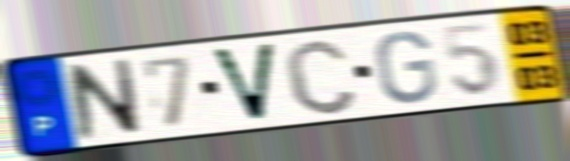5: (439, 22, 505, 100)
7: (141, 53, 194, 131)
C: (280, 35, 361, 118)
G: (373, 29, 441, 107)
N: (64, 56, 145, 143)
V: (206, 40, 279, 125)
